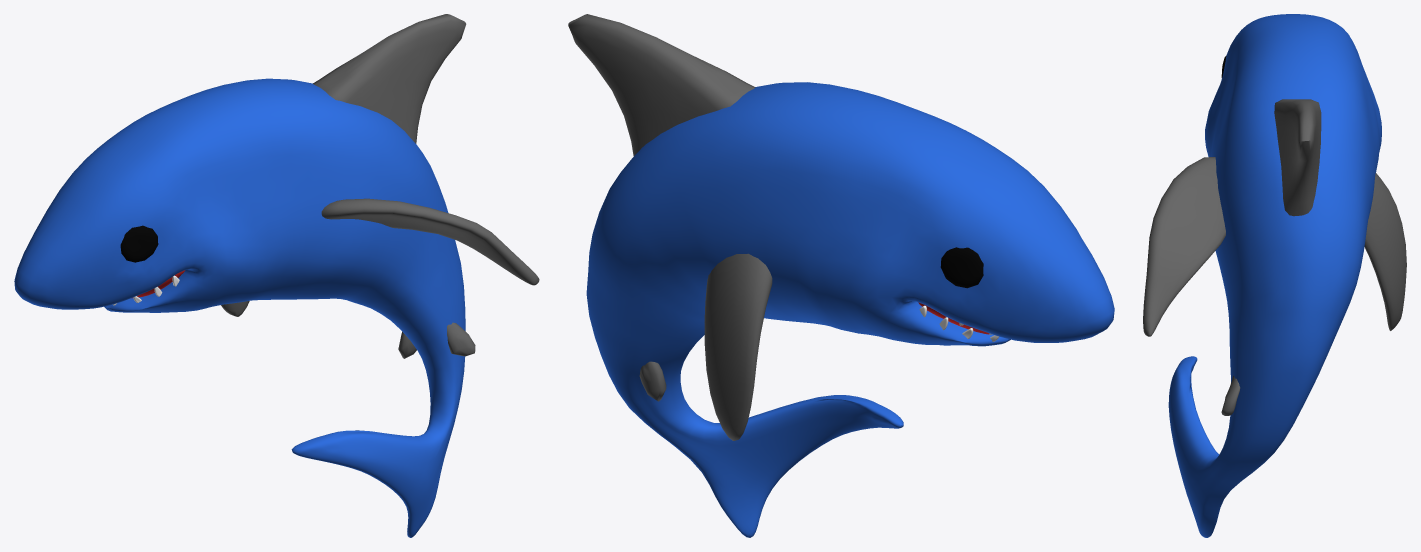
File: shark FBX.glb
3 views of the same model, side by side, from view 1: azimuth 30°, elevation 25°; view 2: azimuth 150°, elevation 25°; view 3: azimuth 270°, elevation 25° (orthographic). The views are drawn at different scales.
Visible parts, largest first — view 1: shark1, S7, S5, S2, S6; view 2: shark1, S7, S5, S2, S6; view 3: shark1, S5, S7, S6.
Part boxes in pixels (box(x1,y1,x2,y2)): shark1: box(14, 78, 465, 537); S7: box(313, 14, 466, 143); S5: box(221, 198, 539, 316); S2: box(120, 225, 158, 262); S6: box(398, 322, 475, 358); shark1: box(586, 82, 1114, 537); S7: box(568, 14, 755, 156); S5: box(704, 253, 772, 440); S2: box(940, 247, 983, 288); S6: box(639, 361, 666, 401); shark1: box(1168, 14, 1381, 537); S5: box(1143, 157, 1406, 336); S7: box(1274, 99, 1321, 216); S6: box(1221, 375, 1240, 415).
Bounding box in the file's own units: 0.4793 × 0.465 × 0.2437.
